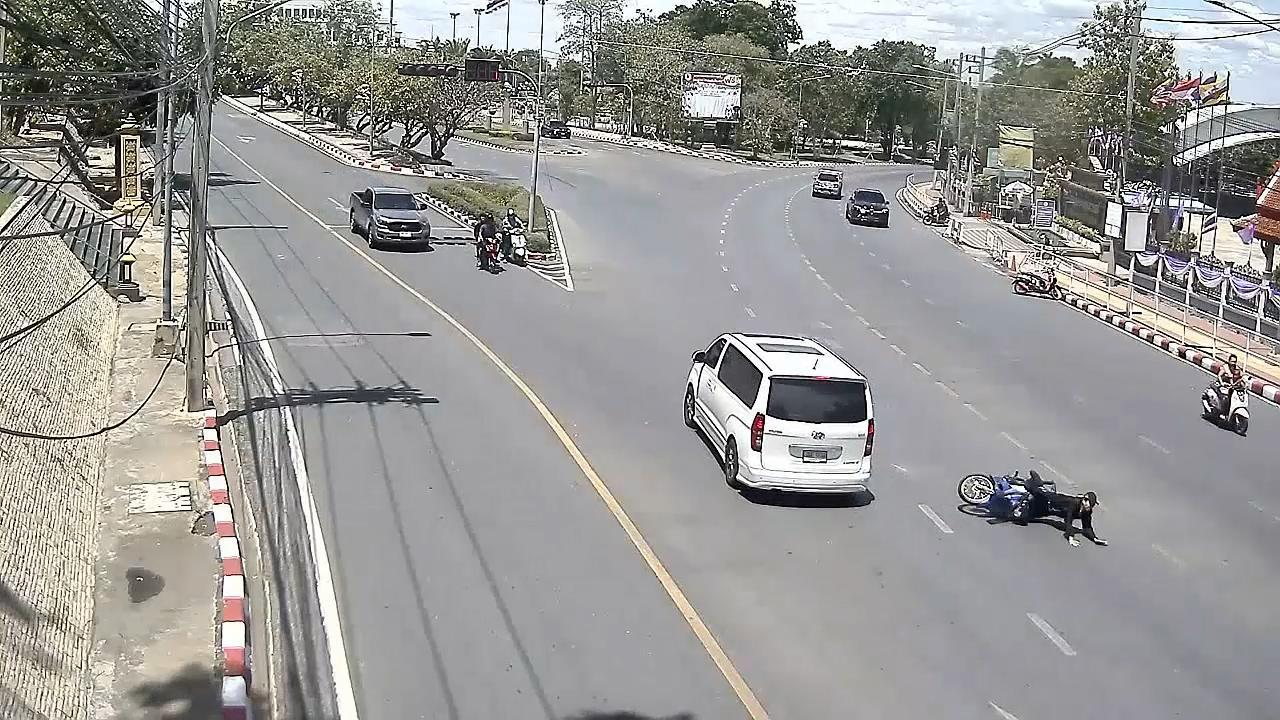accident: (1025, 470, 1111, 550)
